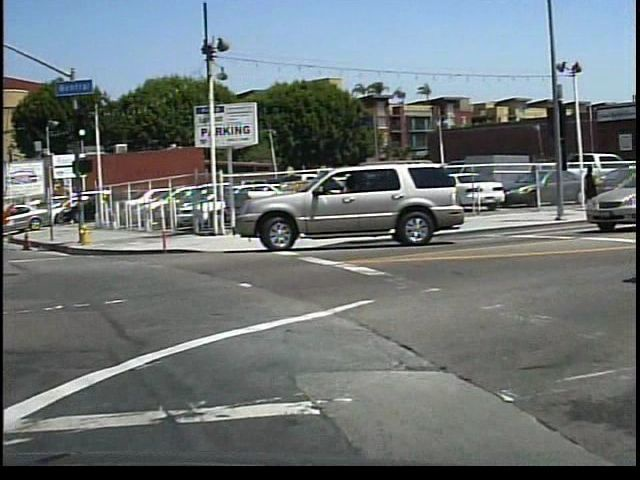person: (581, 164, 602, 214)
